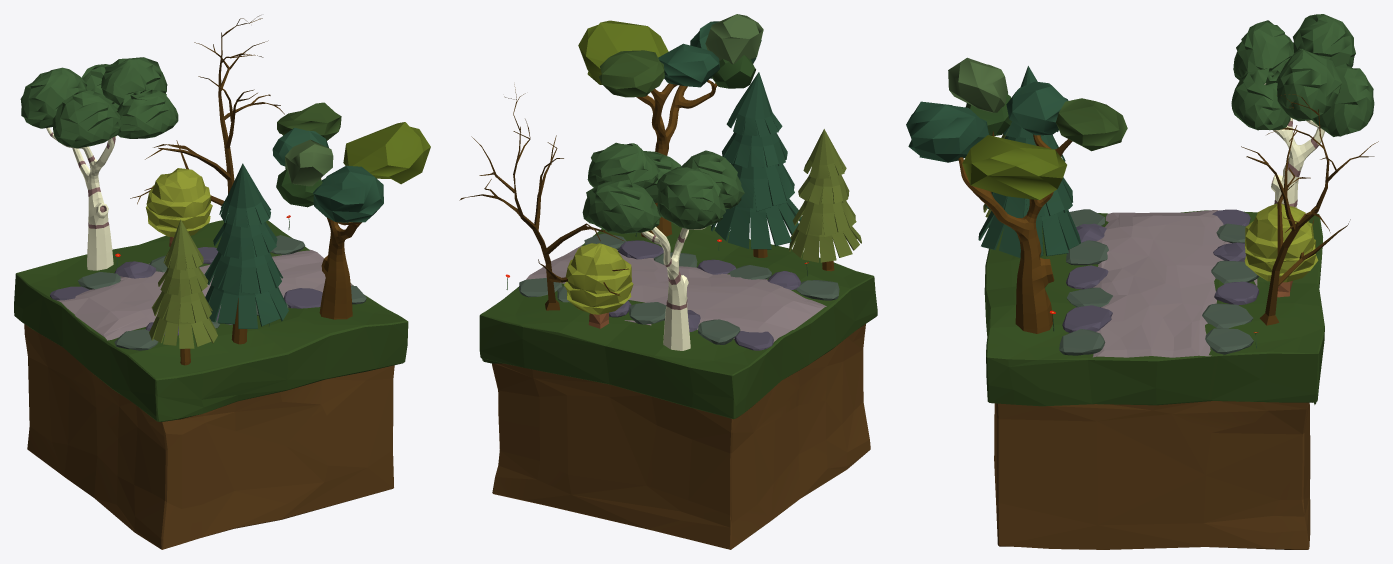
File: tile_alley1.min.gltf
The picture shows the model from 3 angles, left to right: view 1: azimuth 30°, elevation 25°; view 2: azimuth 150°, elevation 25°; view 3: azimuth 270°, elevation 25°; orthographic projection. The views are drawn at different scales.
Parts seen in each view (by area): view 1: CENTERED.002, CENTERED.008, Cube.006, christmas tree.001, Plane.003, christmas tree.000, Circle.002, Box002.012, tree.002, Box002.015; view 2: CENTERED.002, Cube.006, CENTERED.008, christmas tree.001, Plane.003, christmas tree.000, Circle.002, Box002.015, Box002.012, tree.002; view 3: CENTERED.002, CENTERED.008, Plane.003, Cube.006, Box002.015, Box002.012, christmas tree.001, Circle.002, tree.002.
Part boxes in pixels (x1,y1,x2,y2): CENTERED.002: [14, 220, 408, 549]; CENTERED.008: [272, 102, 430, 319]; Cube.006: [20, 57, 178, 270]; christmas tree.001: [204, 163, 288, 344]; Plane.003: [57, 249, 352, 340]; christmas tree.000: [149, 219, 217, 365]; Circle.002: [145, 168, 212, 246]; Box002.012: [50, 235, 305, 300]; tree.002: [130, 15, 284, 205]; Box002.015: [114, 285, 366, 350]; CENTERED.002: [479, 222, 877, 549]; Cube.006: [582, 142, 744, 350]; CENTERED.008: [578, 14, 763, 237]; christmas tree.001: [711, 72, 801, 257]; Plane.003: [526, 245, 826, 342]; christmas tree.000: [789, 129, 861, 271]; Circle.002: [564, 243, 633, 328]; Box002.015: [584, 233, 839, 300]; Box002.012: [519, 278, 773, 350]; tree.002: [459, 84, 628, 310]; CENTERED.002: [984, 210, 1324, 549]; CENTERED.008: [906, 57, 1127, 333]; Plane.003: [1093, 210, 1257, 357]; Cube.006: [1231, 14, 1374, 207]; Box002.015: [1059, 209, 1112, 355]; Box002.012: [1202, 209, 1258, 354]; christmas tree.001: [978, 66, 1080, 257]; Circle.002: [1244, 203, 1318, 297]; tree.002: [1241, 94, 1378, 325].
Bounding box in the file's own units: 1.17 × 1.6 × 1.51.
